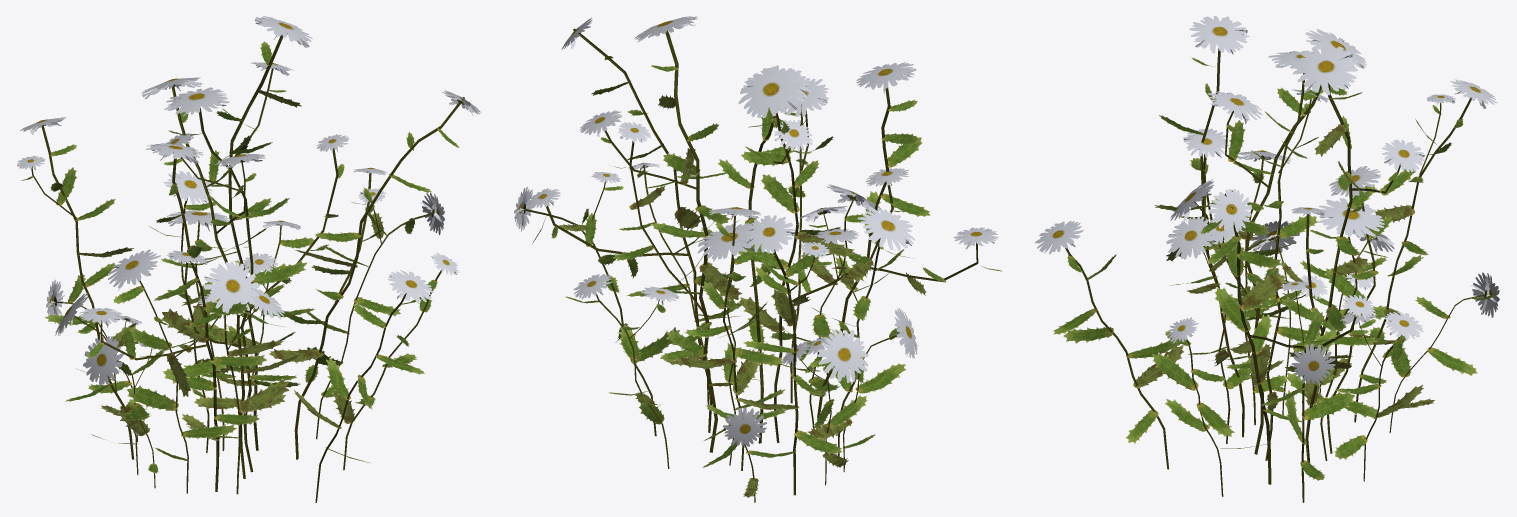
The picture shows the model from 3 angles, left to right: view 1: azimuth 30°, elevation 25°; view 2: azimuth 150°, elevation 25°; view 3: azimuth 270°, elevation 25°; orthographic projection. The views are drawn at different scales.
Visible parts, largest first — view 1: Daisy_patch_big_1_LOD0_Daisy_main_mat_0; view 2: Daisy_patch_big_1_LOD0_Daisy_main_mat_0; view 3: Daisy_patch_big_1_LOD0_Daisy_main_mat_0.
Boxes of the visible parts, <box> form: Daisy_patch_big_1_LOD0_Daisy_main_mat_0: <box>16,16,481,502</box>; Daisy_patch_big_1_LOD0_Daisy_main_mat_0: <box>514,16,1002,502</box>; Daisy_patch_big_1_LOD0_Daisy_main_mat_0: <box>1035,16,1499,502</box>.
Bounding box in the file's own units: 0.7076 × 0.692 × 0.6758.
Materials: 1 (1 with a texture image).
